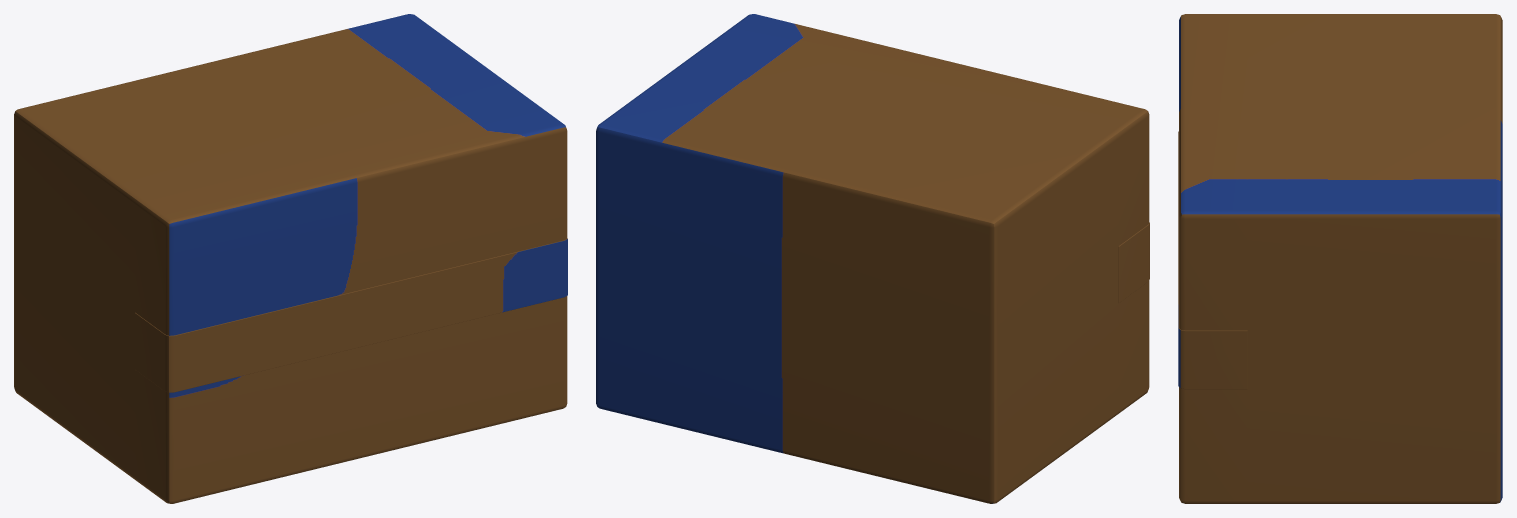
Rendered from package.obj.
3 renders of one model, left to right at view 1: azimuth 30°, elevation 25°; view 2: azimuth 150°, elevation 25°; view 3: azimuth 270°, elevation 25°, orthographic. The views are drawn at different scales.
Visible parts, largest first — view 1: package; view 2: package; view 3: package.
Boxes of the visible parts, x1,y1,x2,y2 form: package: (14, 14, 567, 503); package: (596, 14, 1149, 503); package: (1178, 14, 1502, 503).
Bounding box in the file's own units: 0.7401 × 0.5 × 0.501.
Materials: 1 (1 with a texture image).
